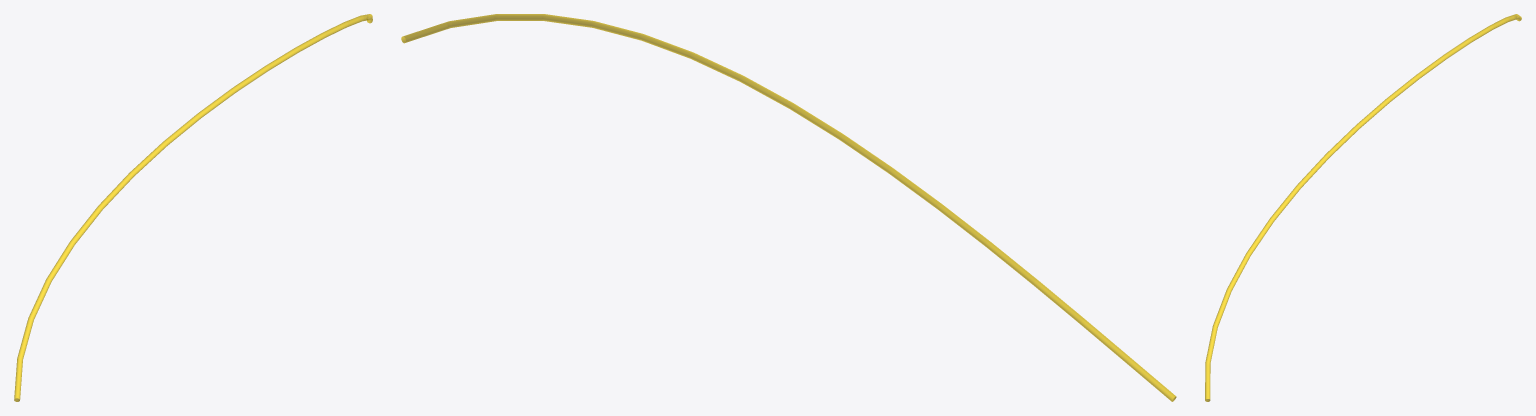
Rendered from Event_84804159_track_51.fbx.
3 renders of one model, left to right at view 1: azimuth 90°, elevation 25°; view 2: azimuth 150°, elevation 25°; view 3: azimuth 270°, elevation 25°, orthographic. The views are drawn at different scales.
Parts seen in each view (by area): view 1: Model; view 2: Model; view 3: Model.
Part boxes in pixels (box(x1,y1,x2,y2)): Model: box(14, 14, 372, 401); Model: box(401, 14, 1176, 401); Model: box(1205, 14, 1521, 401).
Size of the model in its own units: 6.41 by 0.8308 by 2.39.
